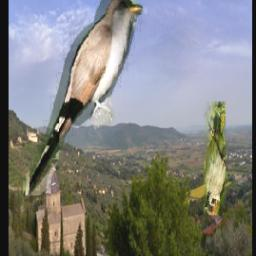Cuckoo: (23, 0, 143, 195)
Sparrow: (205, 101, 226, 215)
